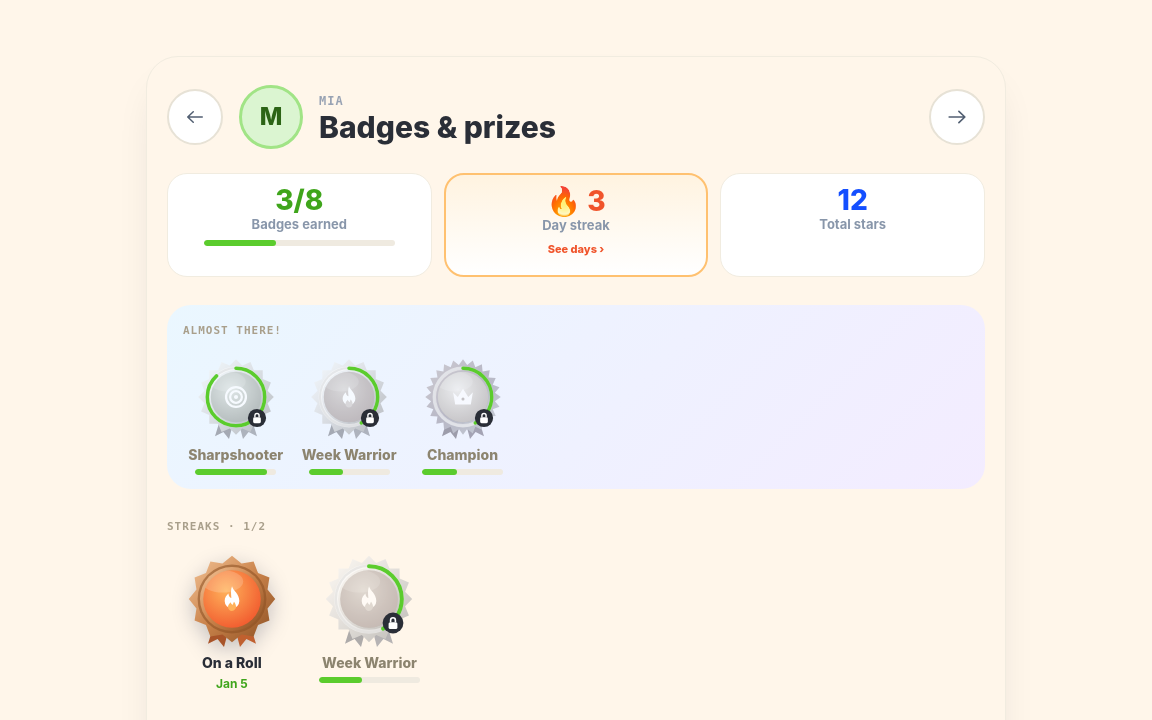
Test: BadgesView › opens the streak to the days played, with time and answers for each
Click the button with aria-label "Day streak: 3. See the days you played" at (576, 225), box [444,173,708,277]
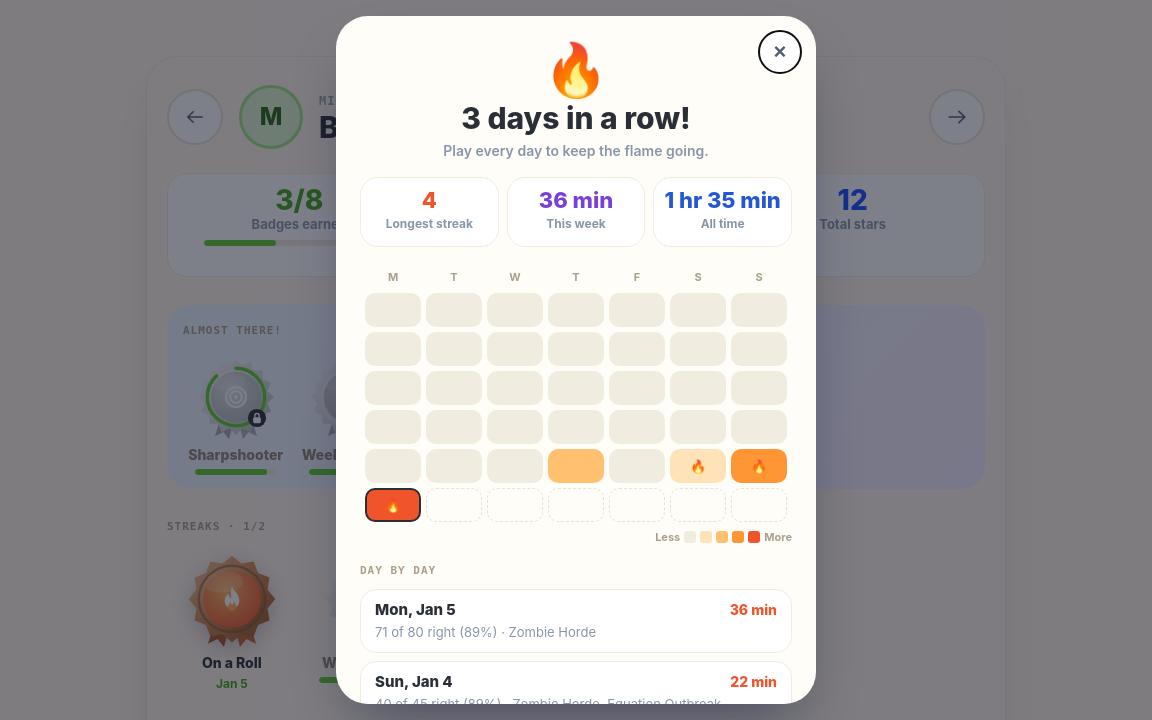
Expected: the heading "3 days in a row!" is shown, [461,100,691,136]
Expected: the text "4" is shown, [422,187,437,213]
Expected: the list item "Mon, Jan 5 36 min 71 of 80 right (89%) · Zombie Horde" is shown, [360,589,792,653]
